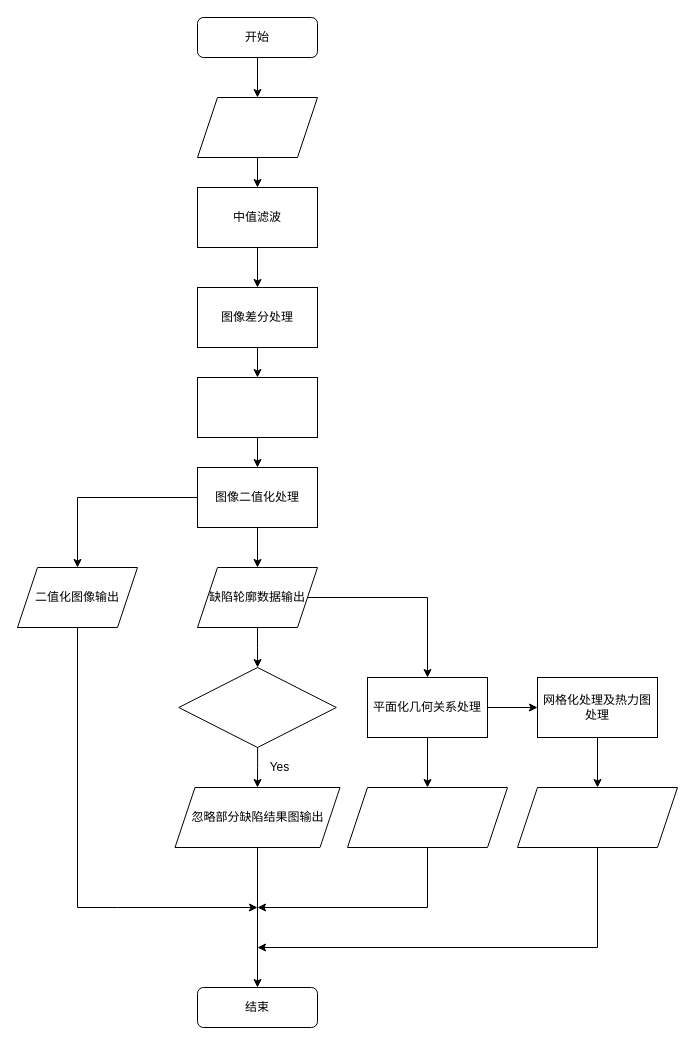
Some shapes in this 695 by 1045 pixel diagram are drawn without their labels. Each missing label, with the centre of its shape:
原始图片输入: point 257,127
缺陷外接矩形坐标输出: point 427,817
网格化图像及热力图输出: point 597,817
轮廓长度大于16px?: point 257,707
高斯模糊降噪: point 257,407
